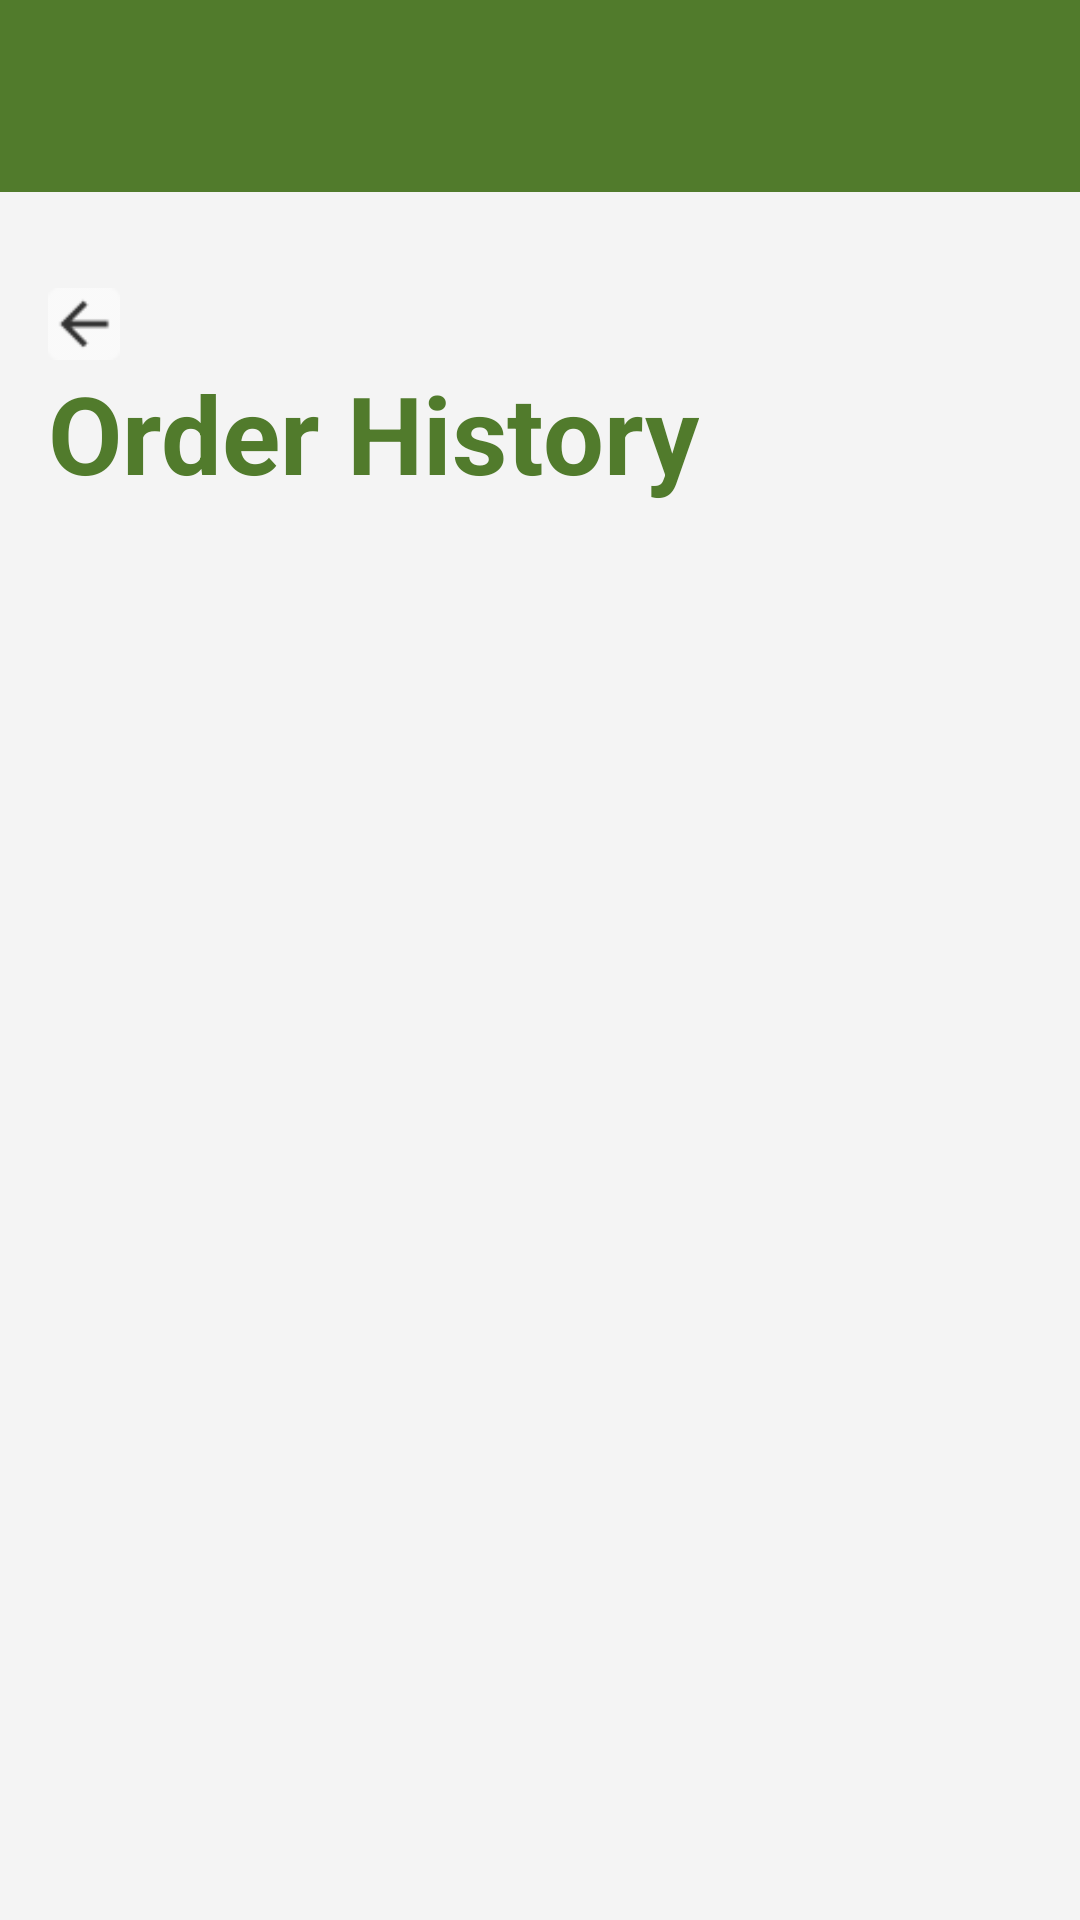

Screen size 1080px x 1920px. Icon name, then its center in pixels as (x=x, y=y):
Back Button: (x=84, y=323)
